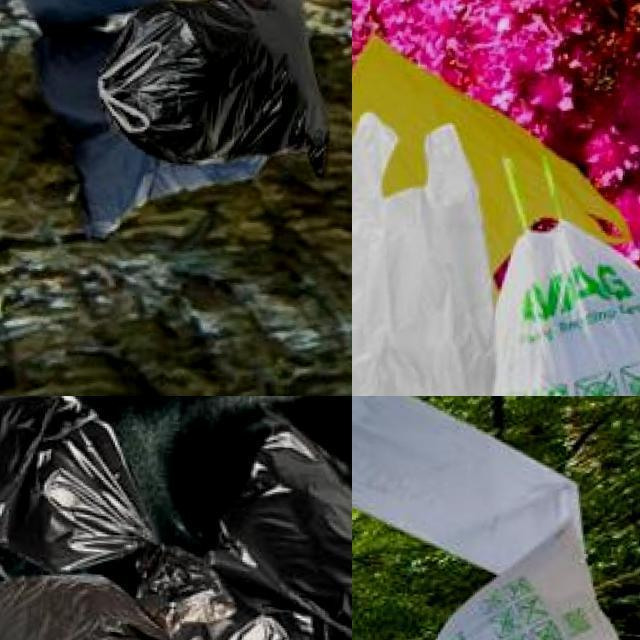waste: (352, 396, 622, 577), (352, 117, 521, 396), (99, 0, 348, 178), (164, 422, 352, 640), (470, 213, 640, 396), (412, 513, 640, 640), (0, 396, 174, 562)
